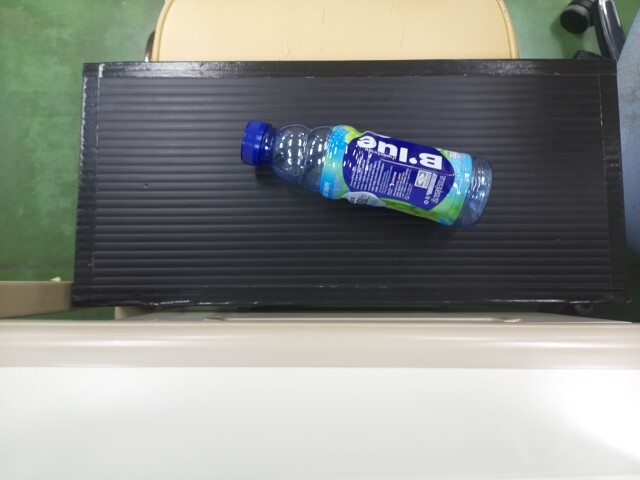plastic_bottle: (237, 118, 492, 229)
